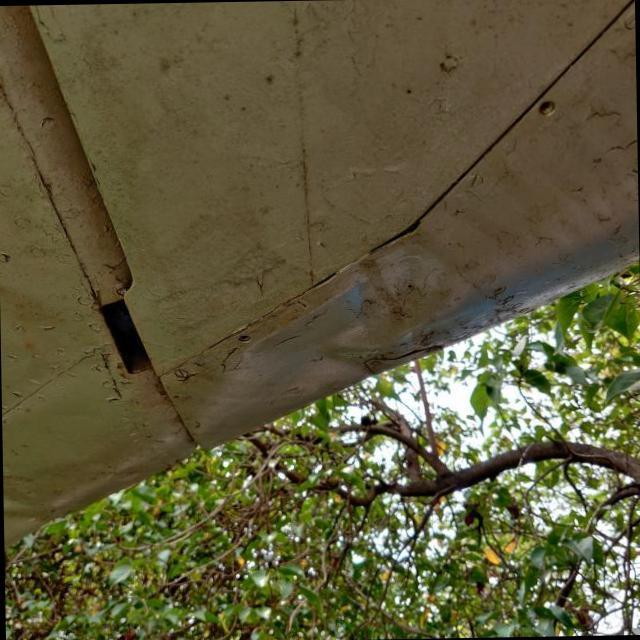Dent: (307, 235, 479, 382)
Fastener Damage: (524, 83, 568, 130), (230, 321, 266, 353)
